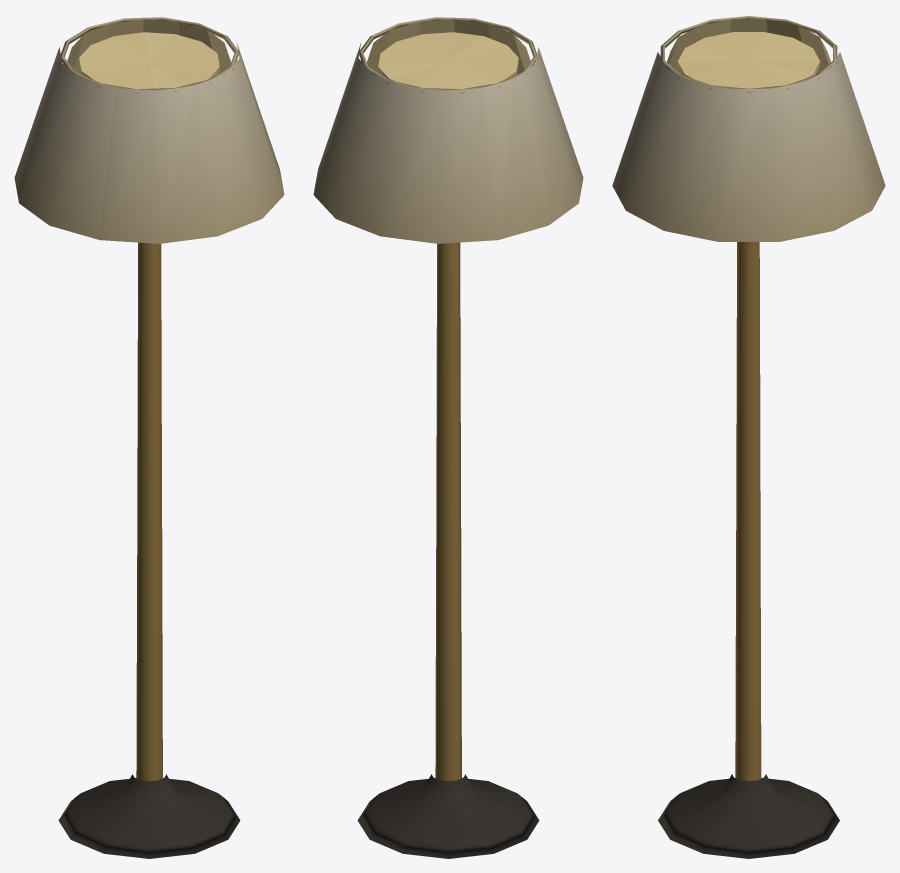
The model's file is floor_lamp.glb.
3 renders of one model, left to right at view 1: azimuth 30°, elevation 25°; view 2: azimuth 150°, elevation 25°; view 3: azimuth 270°, elevation 25°, orthographic.
Parts seen in each view (by area): view 1: floor_lamp; view 2: floor_lamp; view 3: floor_lamp.
Boxes of the visible parts, x1,y1,x2,y2 form: floor_lamp: [14, 17, 284, 858]; floor_lamp: [313, 17, 583, 858]; floor_lamp: [612, 16, 885, 858].
Size of the model in its own units: 0.468 by 1.5 by 0.48.
